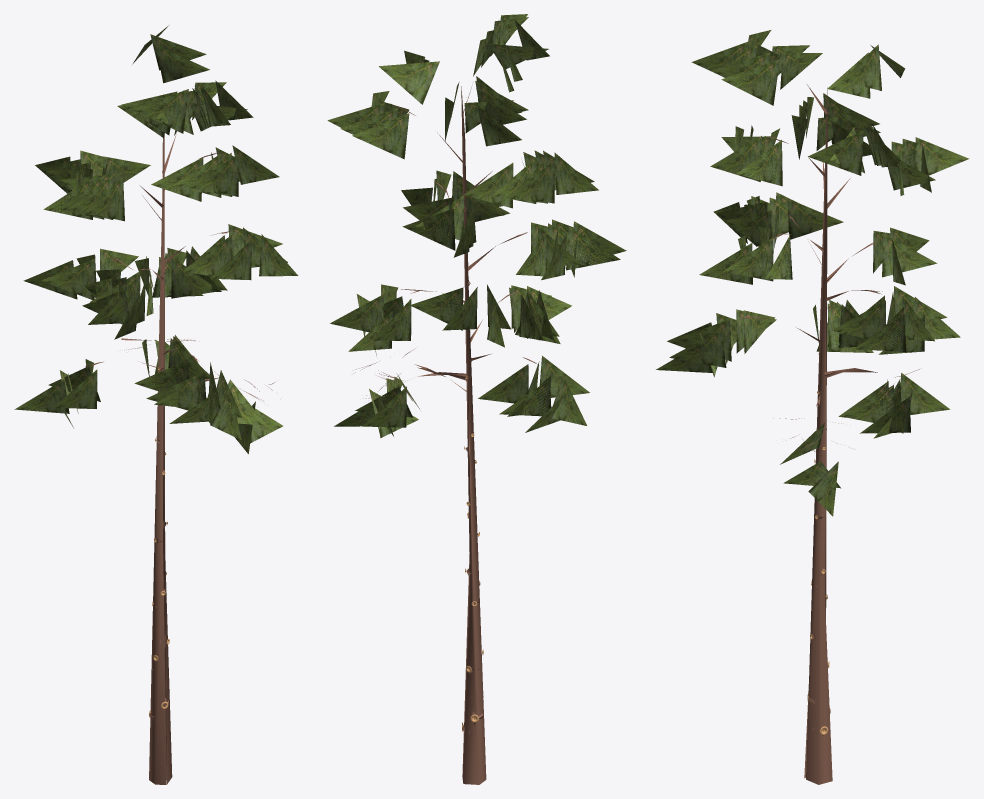
File: pin_feuillage_l1.glb
3 views of the same model, side by side, from view 1: azimuth 30°, elevation 25°; view 2: azimuth 150°, elevation 25°; view 3: azimuth 270°, elevation 25° (orthographic). The views are drawn at different scales.
Visible parts, largest first — view 1: branch08_2, bark04_0; view 2: branch08_2, bark04_0; view 3: branch08_2, bark04_0.
Boxes of the visible parts, x1=… form: branch08_2: x1=14, y1=25, x2=298, y2=453; bark04_0: x1=85, y1=98, x2=274, y2=784; branch08_2: x1=327, y1=14, x2=626, y2=438; bark04_0: x1=353, y1=86, x2=539, y2=784; branch08_2: x1=656, y1=30, x2=969, y2=516; bark04_0: x1=739, y1=84, x2=919, y2=784.
Size of the model in its own units: 38.16 by 104 by 38.89.
Materials: 3 (1 with a texture image).
